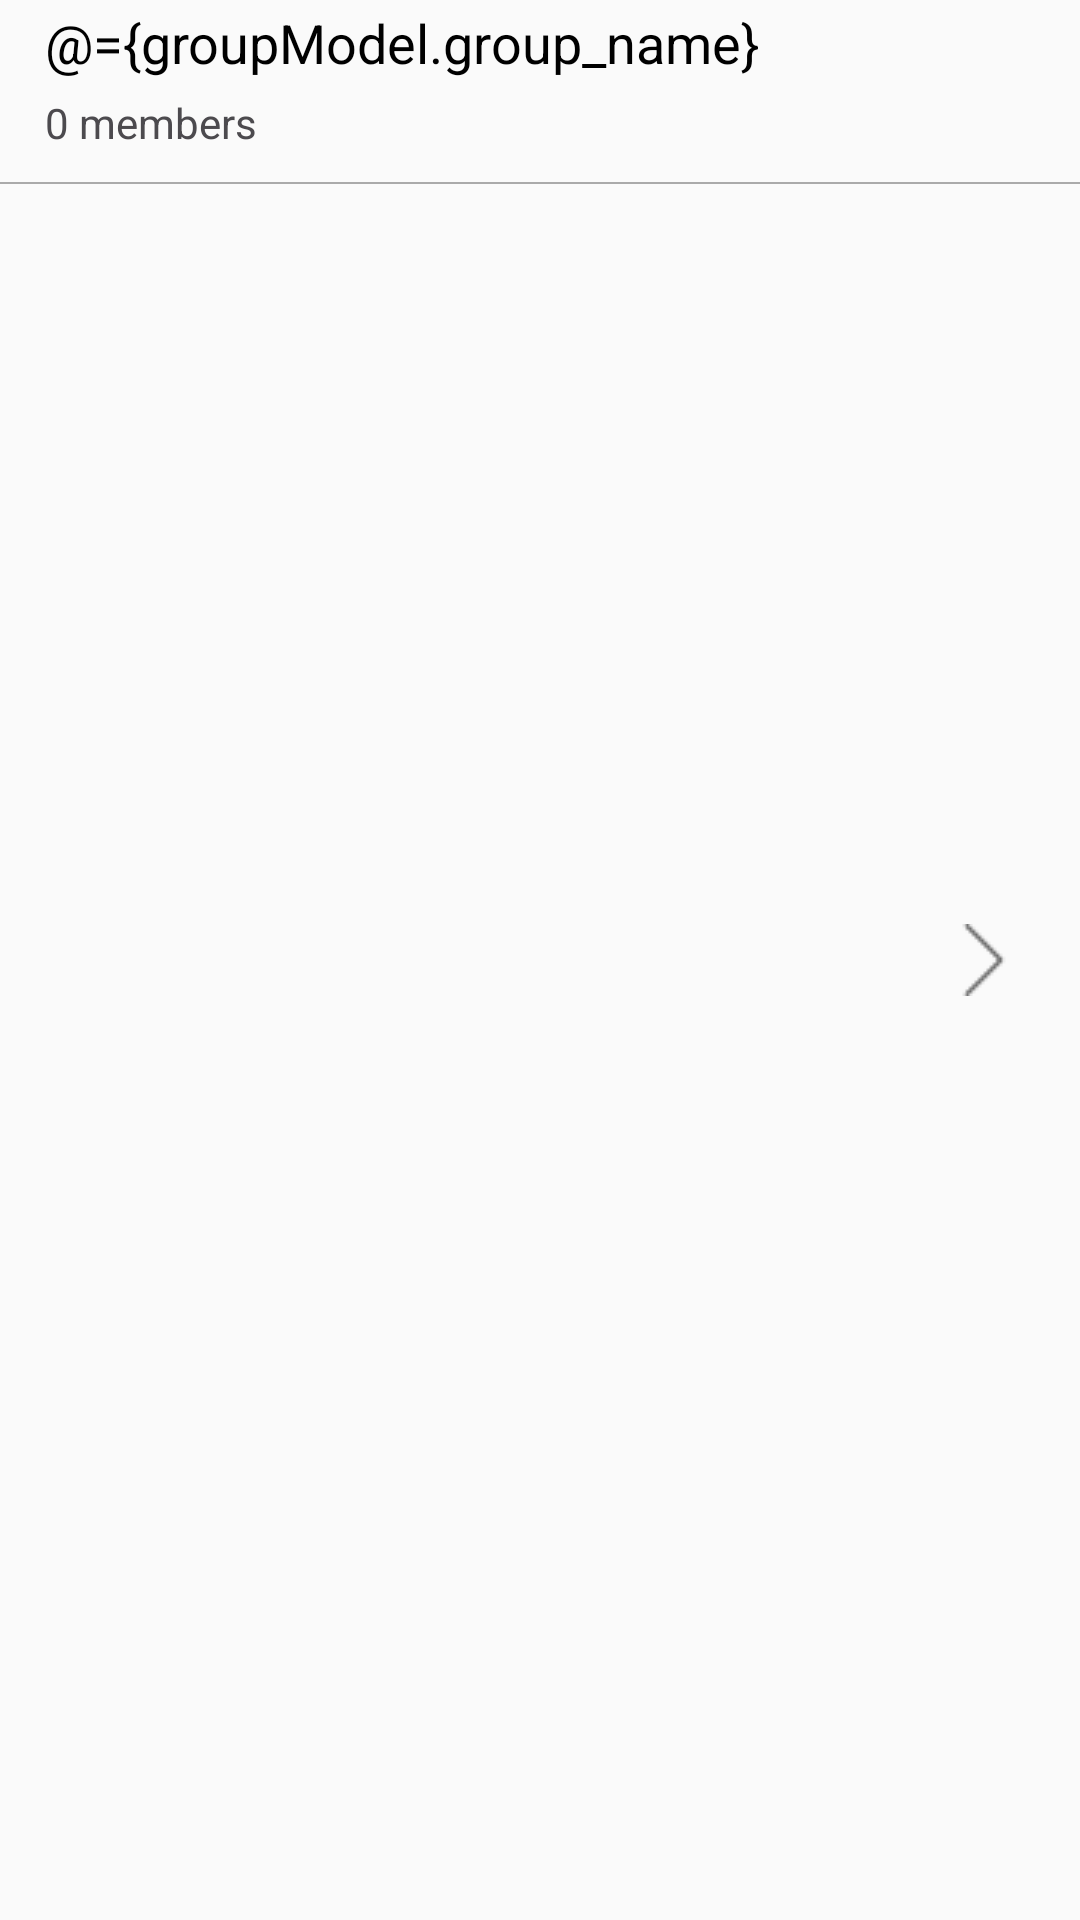

Screen size 1080 × 1920. Icon name, then its box in pixels as (x1, y1, x2, y2):
next: (964, 924, 1003, 996)
